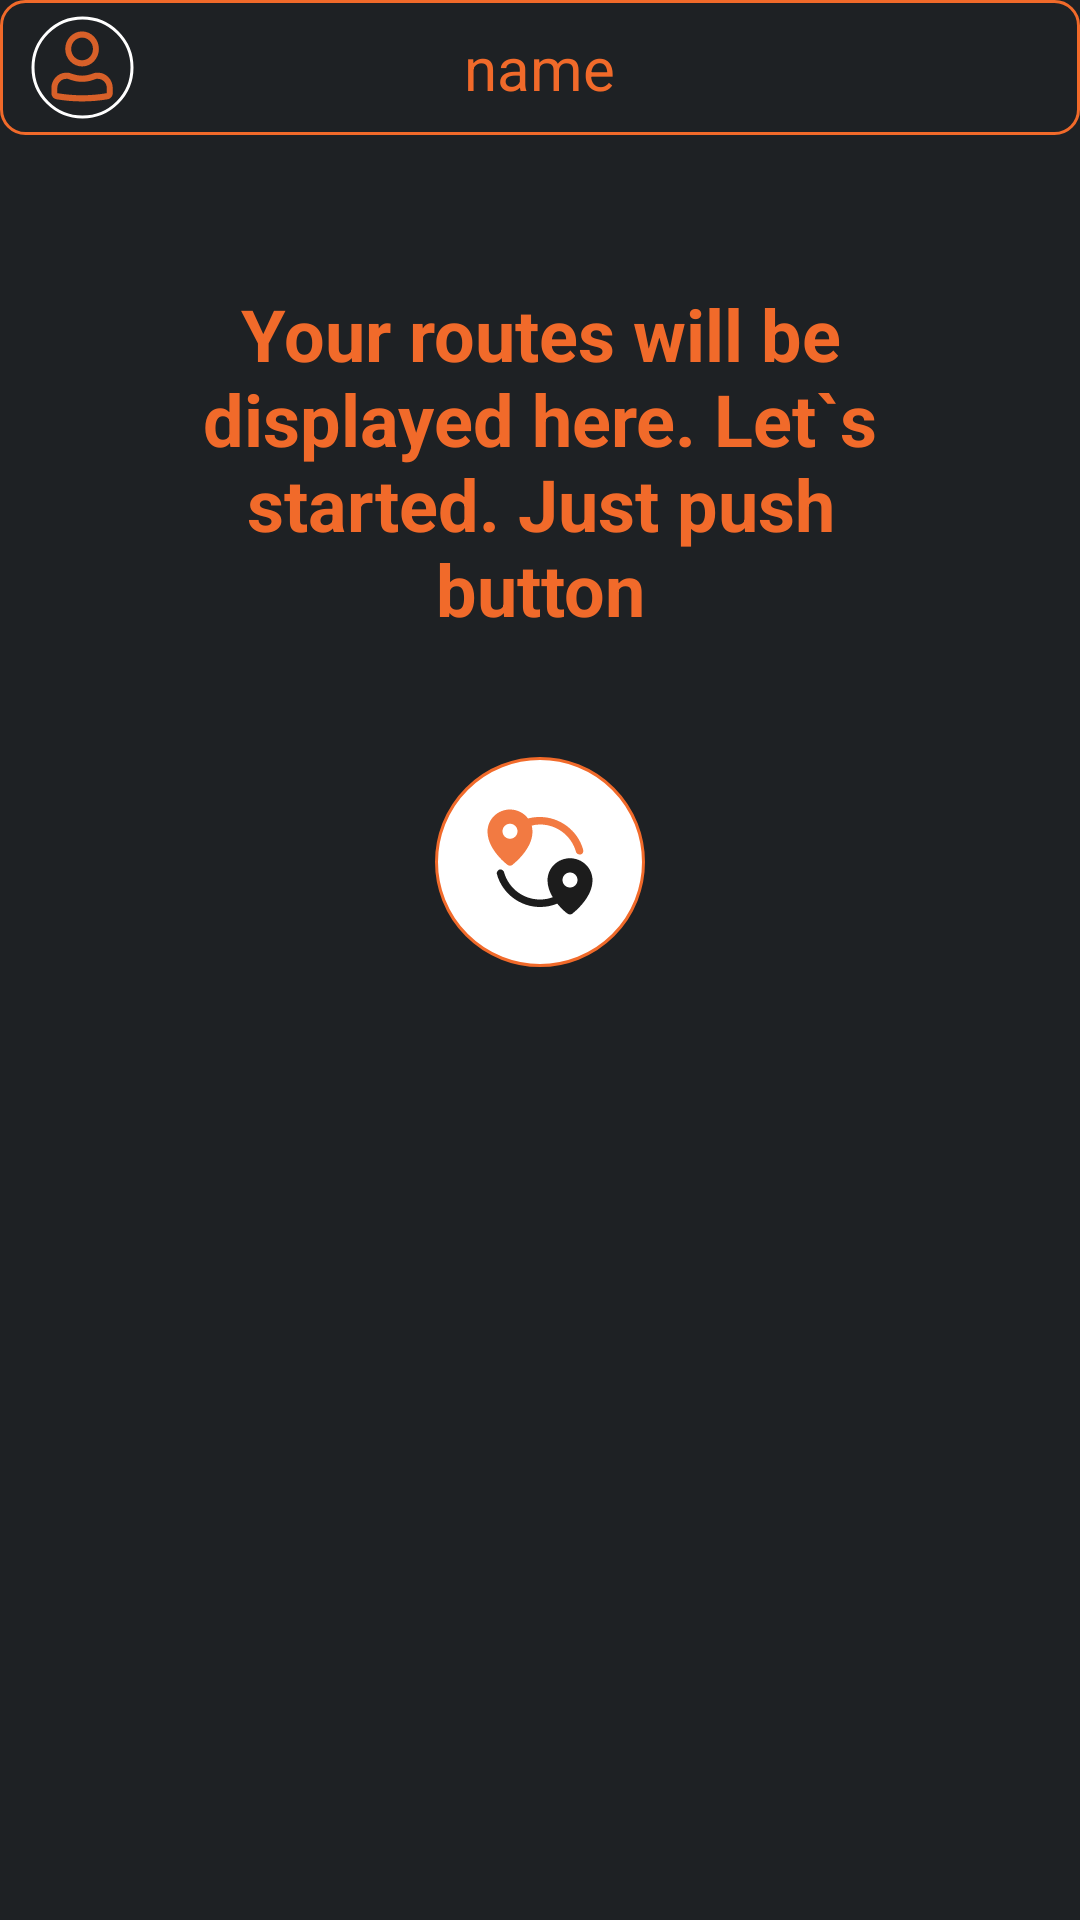

Named icons in this screenshot (1080x1920) and their centers, [x,y]:
user: [82,67]
